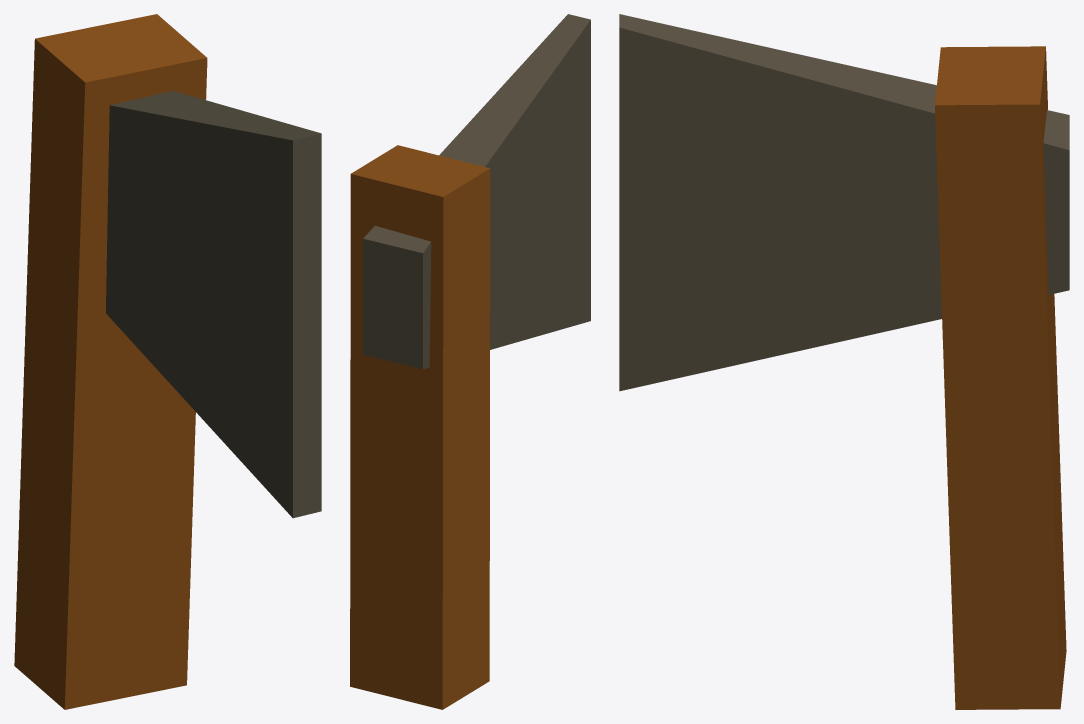
Rendered from axe.fbx.
3 renders of one model, left to right at view 1: azimuth 30°, elevation 25°; view 2: azimuth 150°, elevation 25°; view 3: azimuth 270°, elevation 25°, orthographic. The views are drawn at different scales.
Visible parts, largest first — view 1: polySurface19; view 2: polySurface19; view 3: polySurface19.
Boxes of the visible parts, x1,y1,x2,y2 form: polySurface19: (14,14,321,709); polySurface19: (350,14,590,709); polySurface19: (619,14,1069,709).
Bounding box in the file's own units: 2.37 × 11.71 × 7.2.
Materials: 1 (1 with a texture image).
